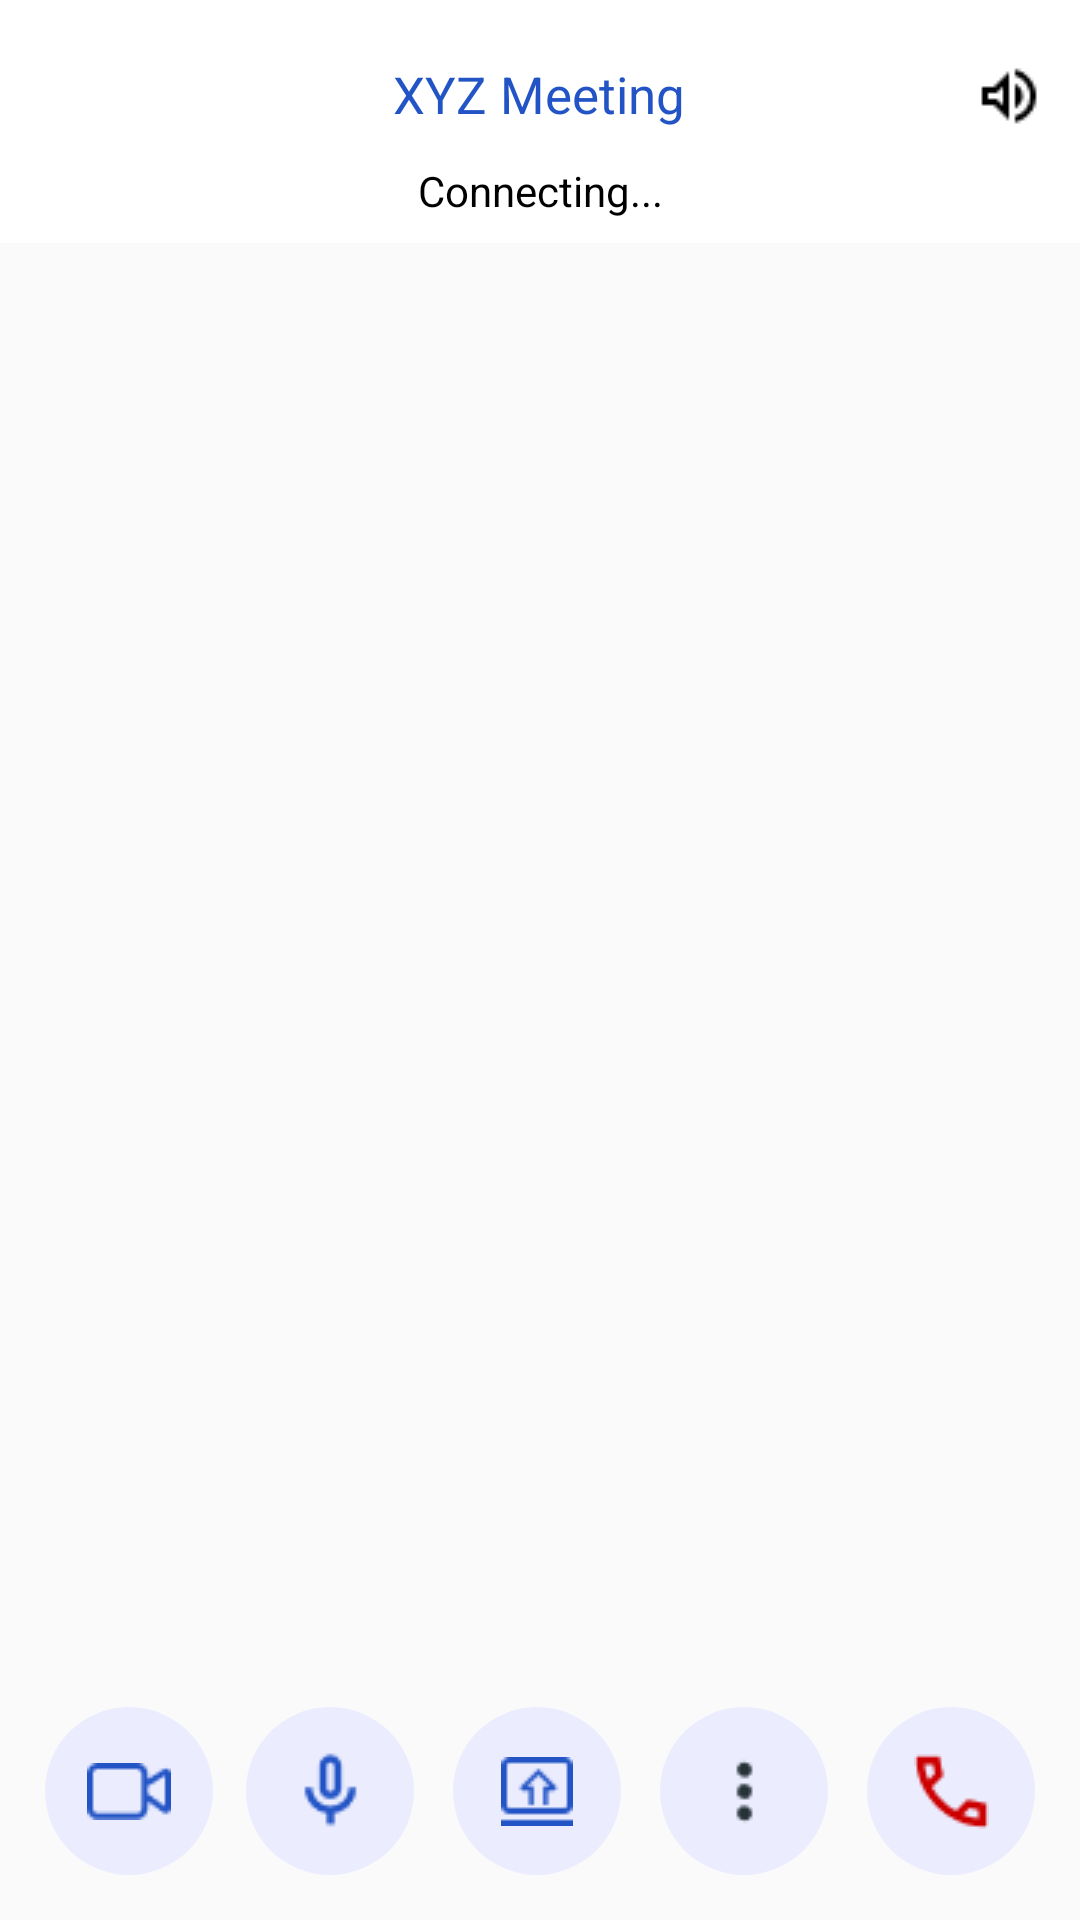

Locate icon controls on the screen. Image size 1080 × 1920, boxes as (x1, y1, x2, y2).
call: (867, 1707, 1035, 1875)
mic: (304, 1753, 357, 1827)
more: (736, 1760, 753, 1823)
share: (501, 1757, 573, 1826)
video: (87, 1763, 171, 1820)
volume up: (981, 68, 1037, 124)
